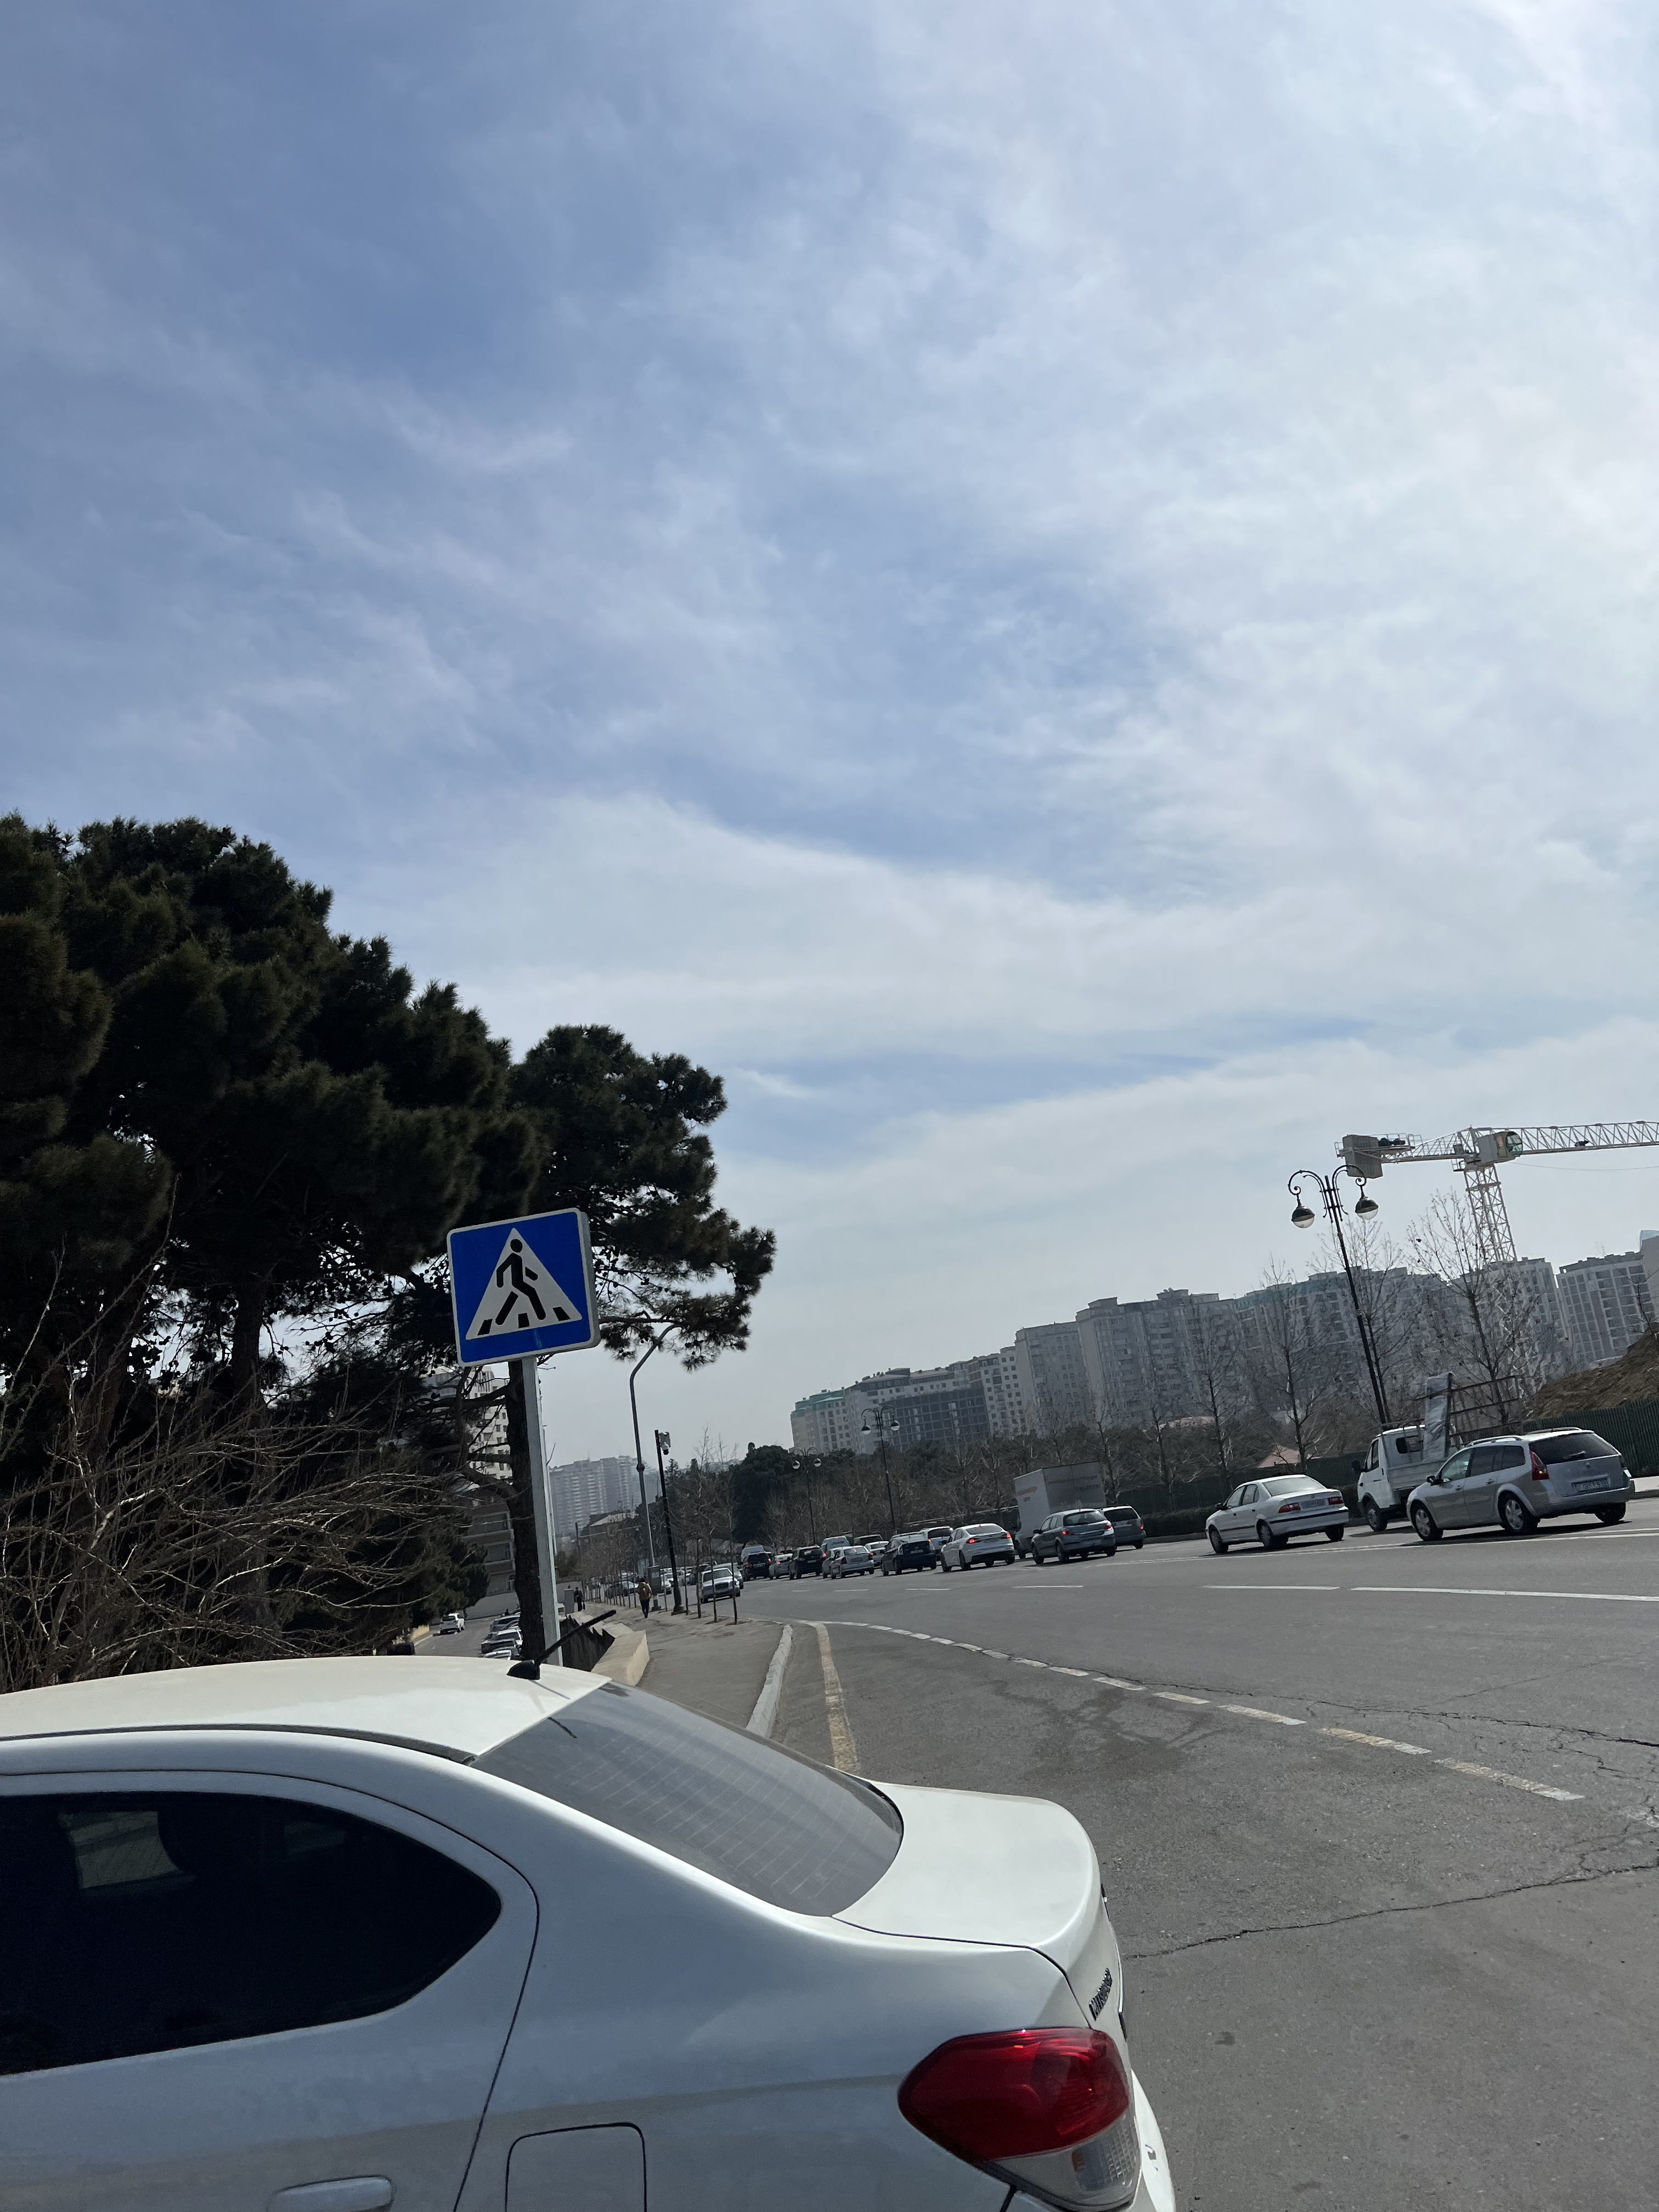Pedestrian Crossing: (453, 1207, 592, 1367)
